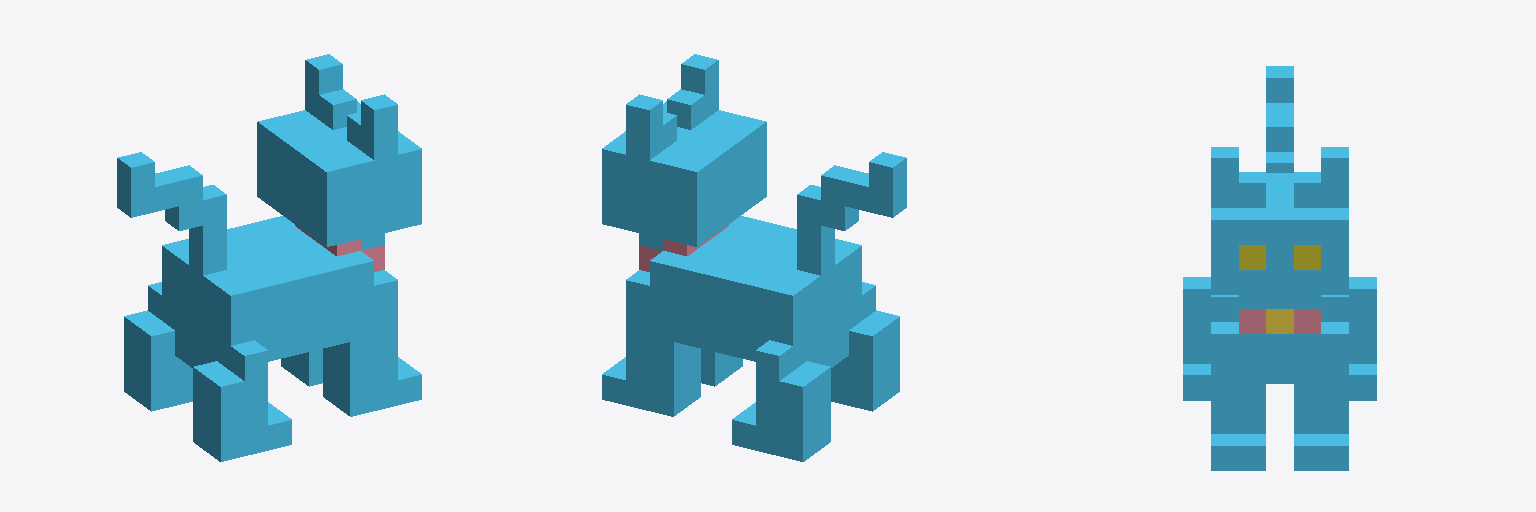
The picture shows the model from 3 angles: view 1: azimuth 30°, elevation 25°; view 2: azimuth 150°, elevation 25°; view 3: azimuth 270°, elevation 25°; orthographic projection.
Visible parts, largest first — view 1: VoxelCat1; view 2: VoxelCat1; view 3: VoxelCat1.
Boxes of the visible parts, x1=… form: VoxelCat1: x1=117, y1=54, x2=421, y2=461; VoxelCat1: x1=602, y1=54, x2=906, y2=461; VoxelCat1: x1=1183, y1=66, x2=1376, y2=470.
Size of the model in its own units: 11 by 12 by 7.
Materials: 1 (1 with a texture image).